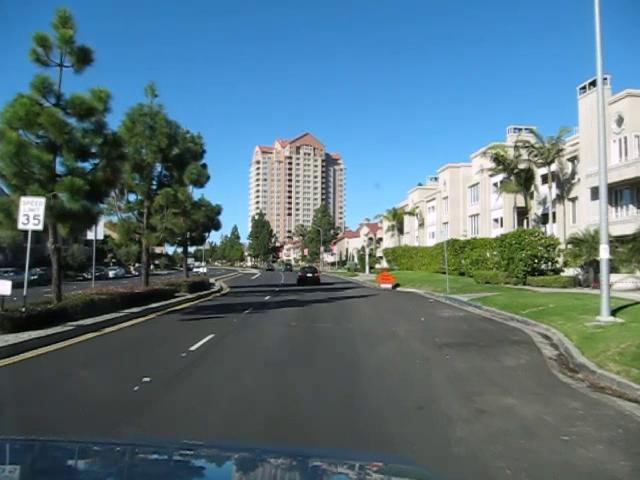speedLimit35: (17, 196, 46, 230)
